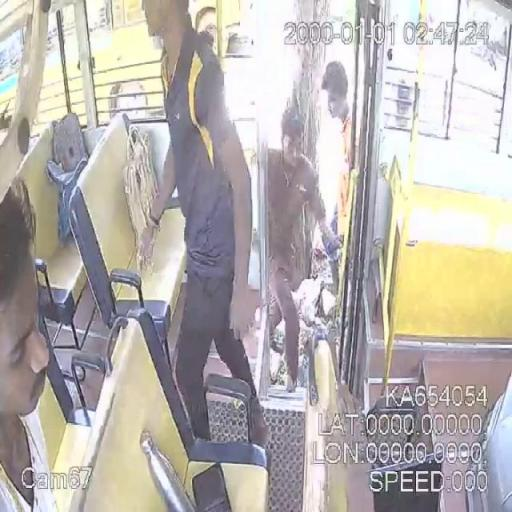persona: (136, 0, 270, 447), (260, 106, 336, 392), (1, 179, 58, 511), (318, 59, 357, 324)
